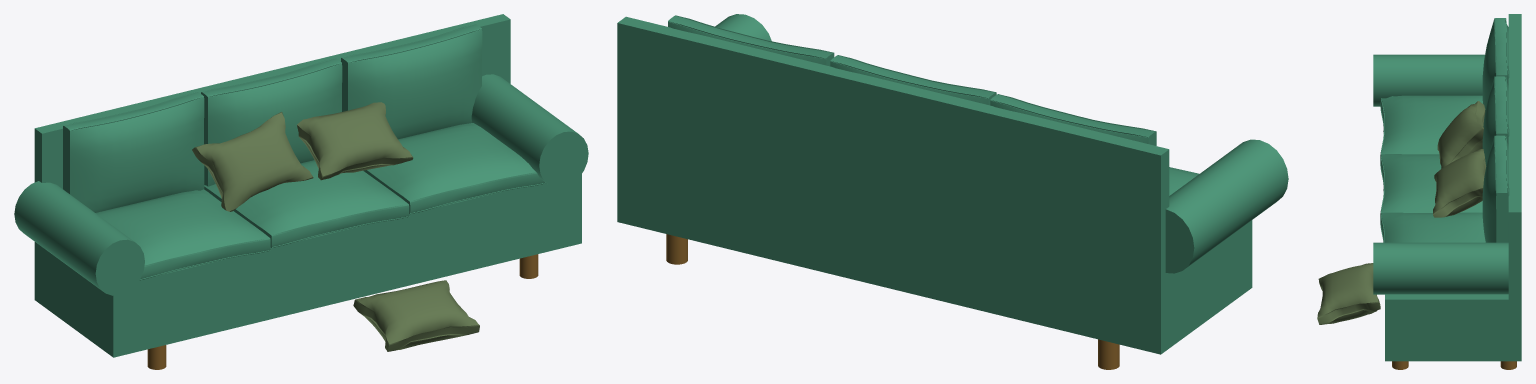
The model's file is sillon final.fbx.
The picture shows the model from 3 angles, left to right: view 1: azimuth 30°, elevation 25°; view 2: azimuth 150°, elevation 25°; view 3: azimuth 270°, elevation 25°; orthographic projection. The views are drawn at different scales.
Visible parts, largest first — view 1: polySurface2, pCube18, polySurface7; view 2: polySurface2, polySurface7; view 3: polySurface2, pCube18, polySurface7.
Part boxes in pixels (<box>): polySurface2: <box>14,14,588,357</box>; pCube18: <box>192,102,479,351</box>; polySurface7: <box>147,254,538,369</box>; polySurface2: <box>617,14,1288,354</box>; polySurface7: <box>666,234,1119,369</box>; polySurface2: <box>1373,14,1521,361</box>; pCube18: <box>1317,101,1486,324</box>; polySurface7: <box>1392,361,1516,369</box>.
Size of the model in its own units: 13.81 by 5.62 by 5.71.
